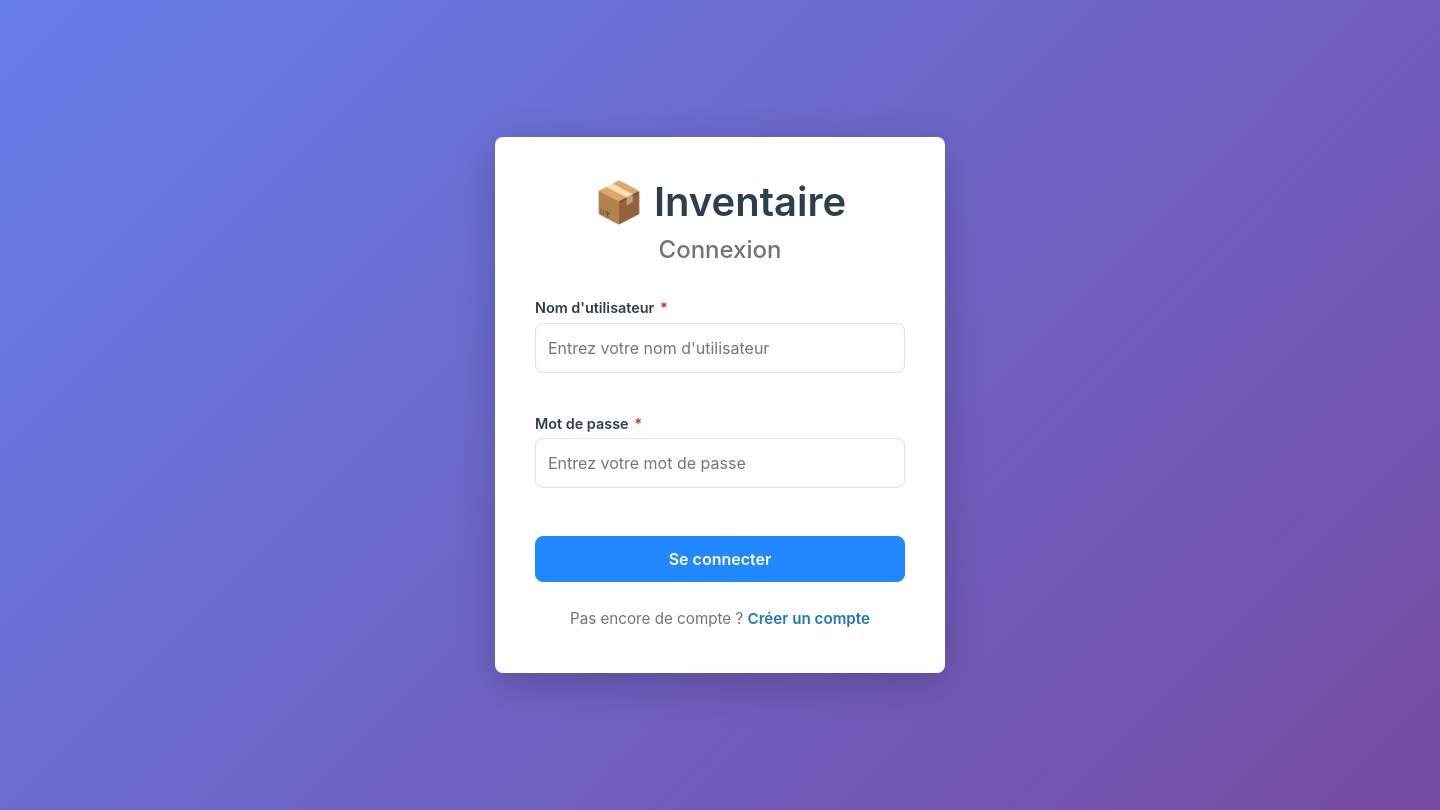
Login › affiche une erreur si le password est vide
This screenshot has width=1440, height=810.
Type "testuser" into the field labelled "Nom d'utilisateur *" at (720, 348), box [535,323,905,373]
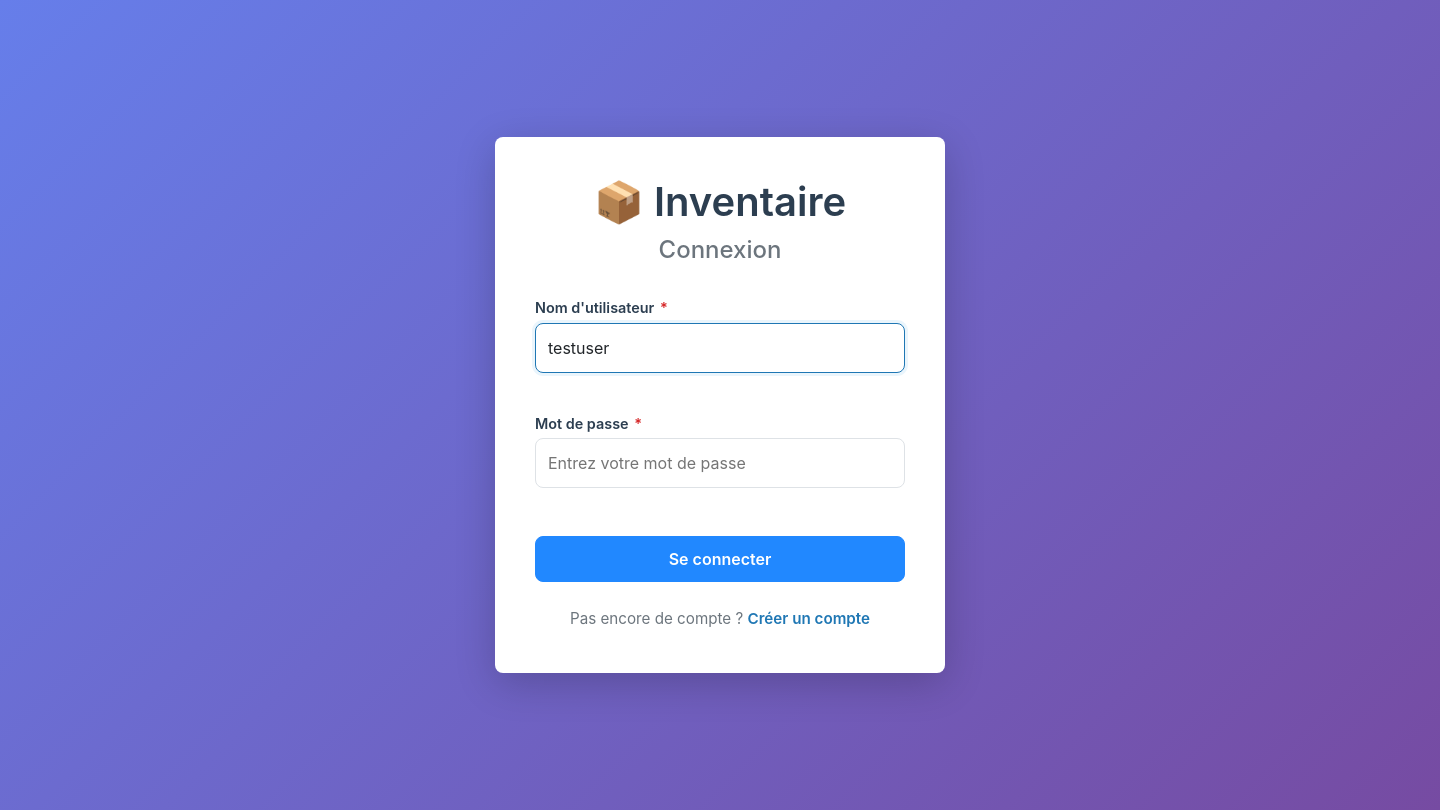
Click the button "Se connecter" at (720, 559), box [535,536,905,582]
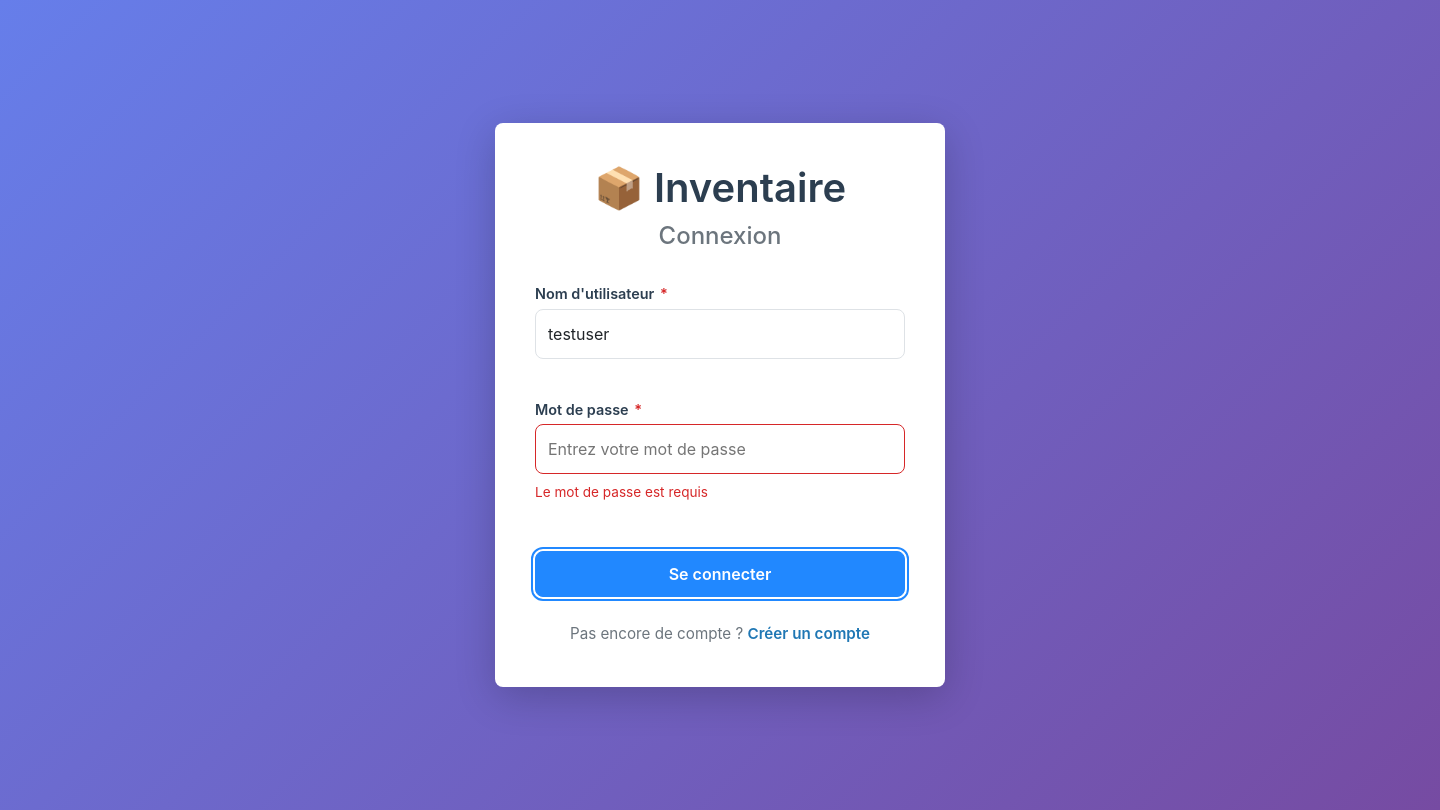
Expected: the text "Le mot de passe est requis" is shown, [535,484,708,500]
